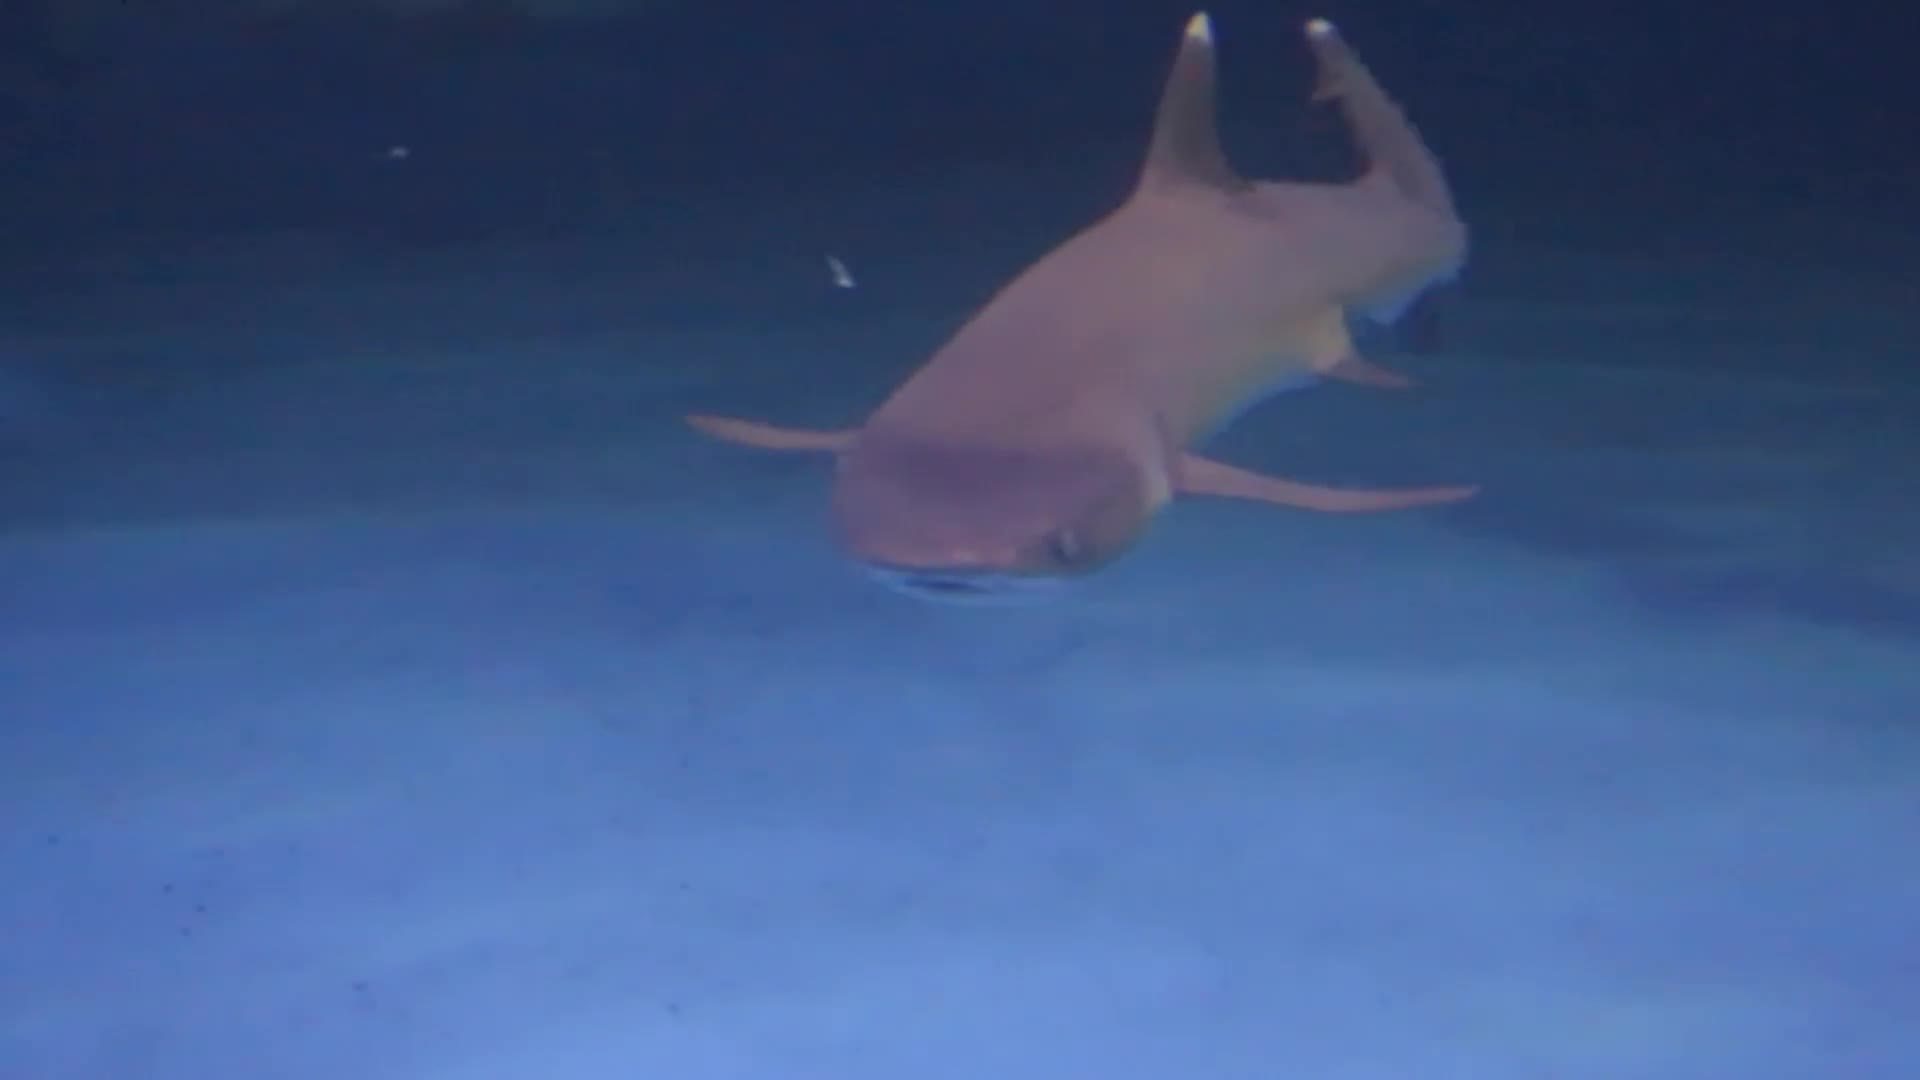Triaenodon obesus: (644, 1, 1575, 611)
